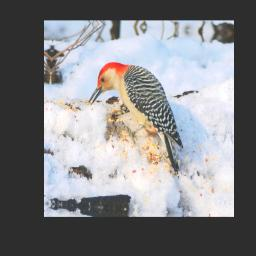Woodpecker: (84, 59, 190, 179)
